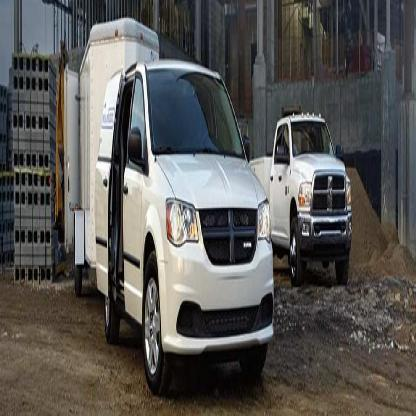Vehicle: (92, 57, 274, 394)
